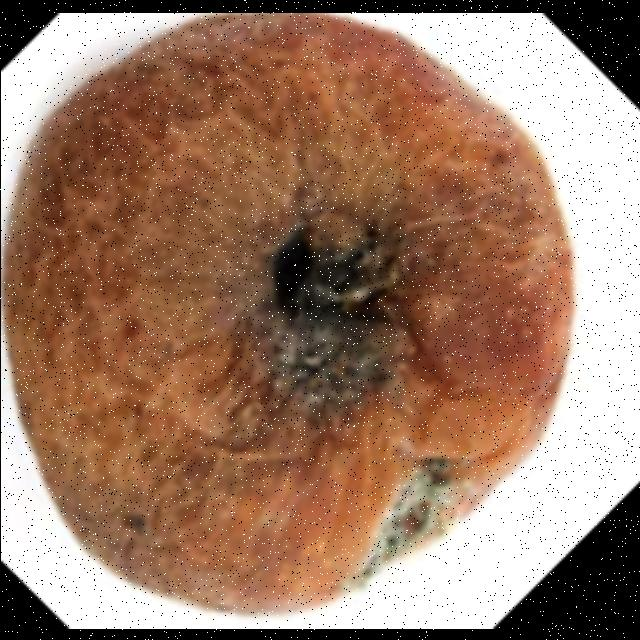Apel Tidak Segar: (1, 11, 580, 622)
